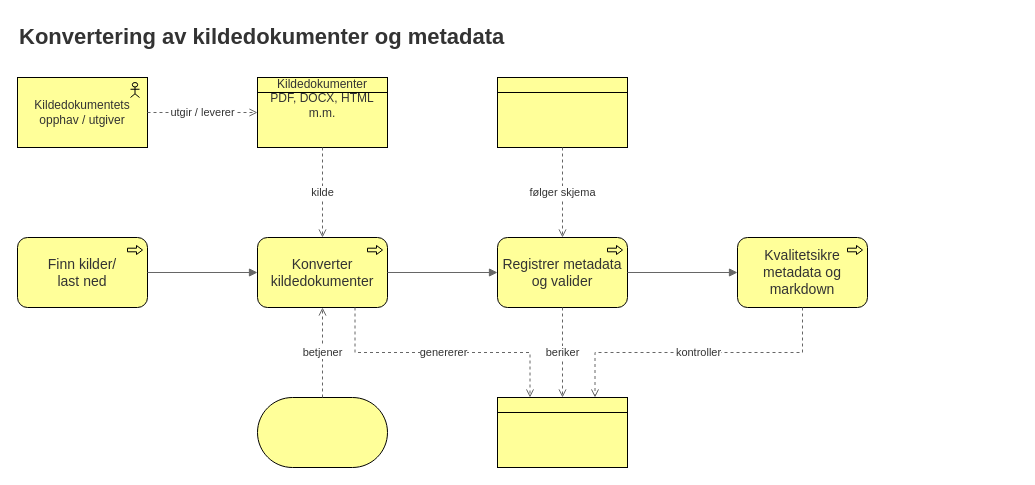
Some shapes in this 1035 by 485 pixel diagram are drawn without their labels. Here are the shapes that lost their labels. From the top down, the centre of each, then its label:
At (562,112): "Metadata-skjema metadata-schema.md + .json".
At (322,432): "Datalab API".
At (562,432): "Konvertert filoutput Markdown ekstraherte bilder metadata".
